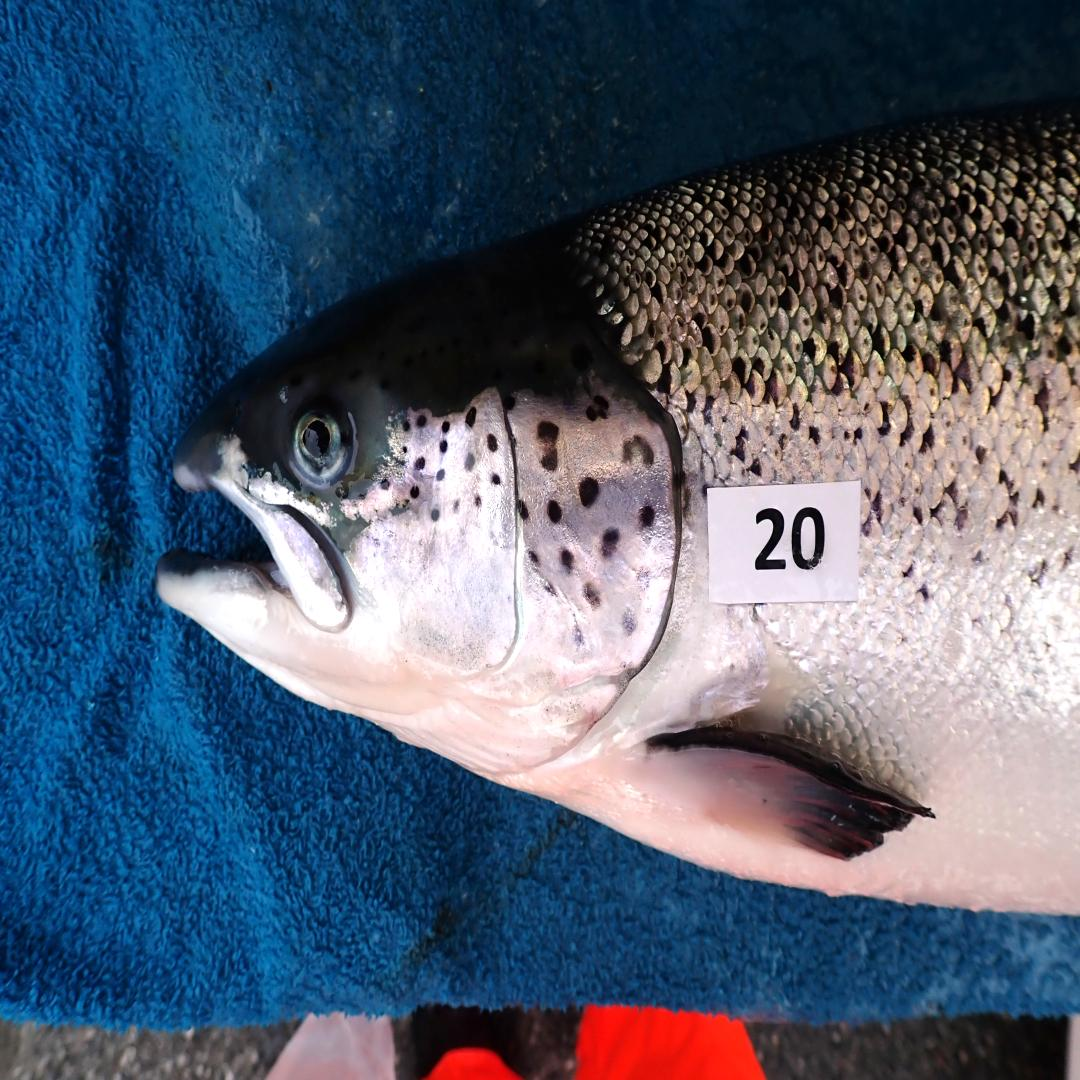roi: (347, 385, 681, 780)
